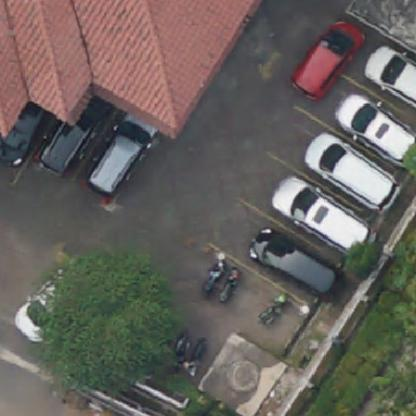car: (276, 173, 370, 256), (255, 226, 343, 300), (315, 139, 397, 217), (86, 111, 151, 195), (292, 20, 357, 94), (352, 94, 415, 167), (13, 274, 71, 337), (39, 110, 88, 177), (370, 45, 415, 111), (5, 107, 41, 170)
motorcycle: (260, 294, 292, 329), (197, 258, 222, 294), (167, 330, 191, 359), (221, 270, 241, 300), (187, 341, 207, 369)
